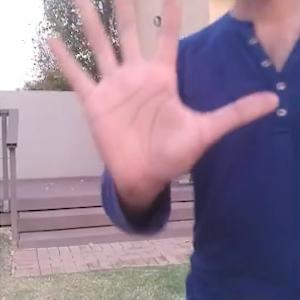follow_hand: (43, 0, 281, 198)
